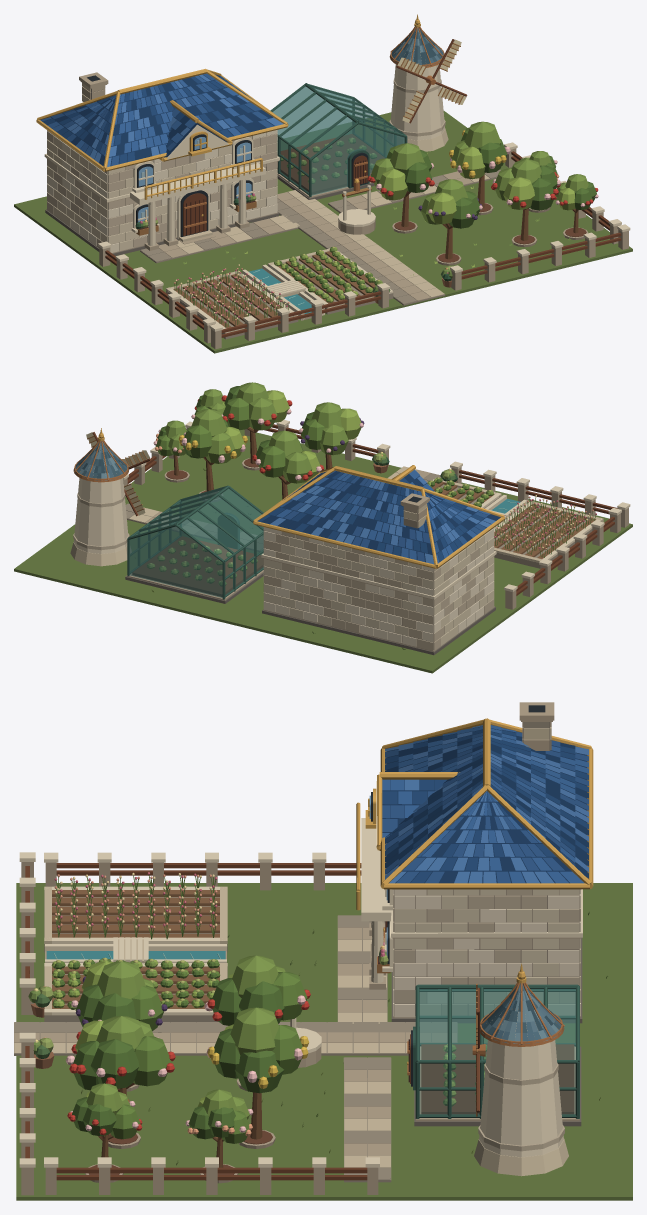
The model's file is farm-nivel-10.glb.
3 views of the same model, one above another, from view 1: azimuth 30°, elevation 25°; view 2: azimuth 150°, elevation 25°; view 3: azimuth 270°, elevation 25° (orthographic). The views are drawn at different scales.
Parts seen in each view (by area): view 1: Fazenda 10 #677a42, Fazenda 10 #e6d7ba, Fazenda 10 #b4a38a, Fazenda 10 #57928c, Fazenda 10 #1b385b, Fazenda 10 #7a9448, Fazenda 10 #9b8f7c, Fazenda 10 #c0b198, Fazenda 10 #d5c7aa, Fazenda 10 #d5a452, Fazenda 10 #70432c, Fazenda 10 #cebea0 (+18 smaller); view 2: Fazenda 10 #677a42, Fazenda 10 #57928c, Fazenda 10 #c0b198, Fazenda 10 #e6d8be, Fazenda 10 #e6d7ba, Fazenda 10 #d5c7aa, Fazenda 10 #7a9448, Fazenda 10 #1b385b, Fazenda 10 #b4a38a, Fazenda 10 #65823d, Fazenda 10 #385c50, Fazenda 10 #6d4733 (+16 smaller); view 3: Fazenda 10 #677a42, Fazenda 10 #e6d7ba, Fazenda 10 #b4a38a, Fazenda 10 #567337, Fazenda 10 #1b385b, Fazenda 10 #9b8f7c, Fazenda 10 #57928c, Fazenda 10 #65823d, Fazenda 10 #886345, Fazenda 10 #cebea0, Fazenda 10 #7a9448, Fazenda 10 #d5a452 (+19 smaller).
Boxes of the visible parts, <box> form: Fazenda 10 #677a42: <box>14,111,632,353</box>; Fazenda 10 #e6d7ba: <box>44,64,630,333</box>; Fazenda 10 #b4a38a: <box>46,72,628,349</box>; Fazenda 10 #57928c: <box>272,86,404,195</box>; Fazenda 10 #1b385b: <box>42,75,274,166</box>; Fazenda 10 #7a9448: <box>183,121,588,302</box>; Fazenda 10 #9b8f7c: <box>105,85,500,339</box>; Fazenda 10 #c0b198: <box>47,49,445,247</box>; Fazenda 10 #d5c7aa: <box>47,136,277,250</box>; Fazenda 10 #d5a452: <box>36,14,420,216</box>; Fazenda 10 #70432c: <box>105,151,621,337</box>; Fazenda 10 #cebea0: <box>82,83,489,333</box>; Fazenda 10 #677a42: <box>14,429,632,673</box>; Fazenda 10 #57928c: <box>130,488,263,597</box>; Fazenda 10 #c0b198: <box>73,462,494,650</box>; Fazenda 10 #e6d8be: <box>263,527,494,646</box>; Fazenda 10 #e6d7ba: <box>73,420,630,599</box>; Fazenda 10 #d5c7aa: <box>263,527,494,645</box>; Fazenda 10 #7a9448: <box>148,382,493,576</box>; Fazenda 10 #1b385b: <box>261,471,500,562</box>; Fazenda 10 #b4a38a: <box>123,424,628,651</box>; Fazenda 10 #65823d: <box>147,398,595,649</box>; Fazenda 10 #385c50: <box>127,485,263,599</box>; Fazenda 10 #6d4733: <box>132,458,263,596</box>; Fazenda 10 #677a42: <box>16,883,632,1200</box>; Fazenda 10 #e6d7ba: <box>19,781,582,1167</box>; Fazenda 10 #b4a38a: <box>14,702,581,1195</box>; Fazenda 10 #567337: <box>54,959,486,1139</box>; Fazenda 10 #1b385b: <box>382,726,588,883</box>; Fazenda 10 #9b8f7c: <box>14,722,551,1182</box>; Fazenda 10 #57928c: <box>419,989,575,1114</box>; Fazenda 10 #65823d: <box>52,875,607,1143</box>; Fazenda 10 #886345: <box>52,890,219,1008</box>; Fazenda 10 #cebea0: <box>14,727,568,1176</box>; Fazenda 10 #7a9448: <box>39,931,475,1165</box>; Fazenda 10 #d5a452: <box>356,718,593,1064</box>.
Bounding box in the file's own units: 17.81 × 5.67 × 14.84.
